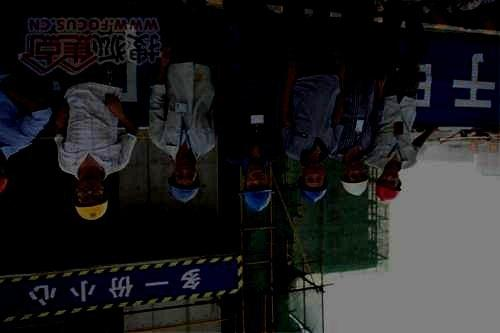helmet: (167, 160, 202, 204), (74, 177, 108, 221), (240, 169, 274, 212), (338, 153, 370, 197), (300, 164, 329, 203), (374, 167, 402, 202)
